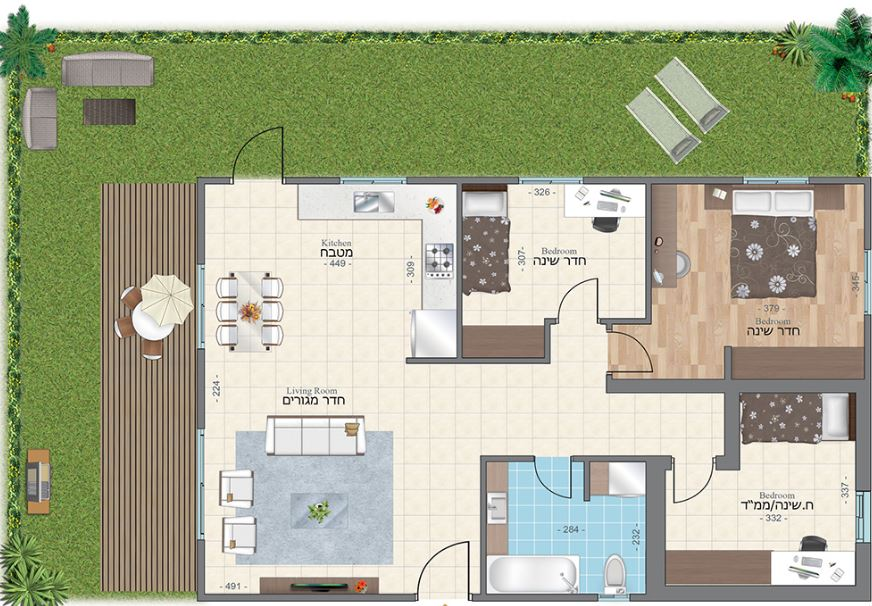door: (225, 123, 294, 172), (403, 534, 472, 583), (403, 535, 472, 584), (547, 271, 607, 315), (615, 328, 662, 375), (668, 466, 712, 510), (528, 465, 575, 501)
